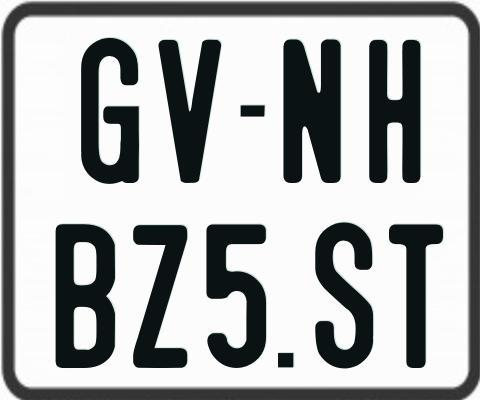5: (206, 221, 270, 369)
B: (55, 223, 116, 368)
G: (80, 36, 143, 184)
H: (368, 38, 421, 186)
N: (282, 36, 344, 186)
S: (312, 220, 372, 368)
T: (387, 222, 443, 366)
V: (157, 38, 220, 183)
Z: (133, 225, 192, 368)
